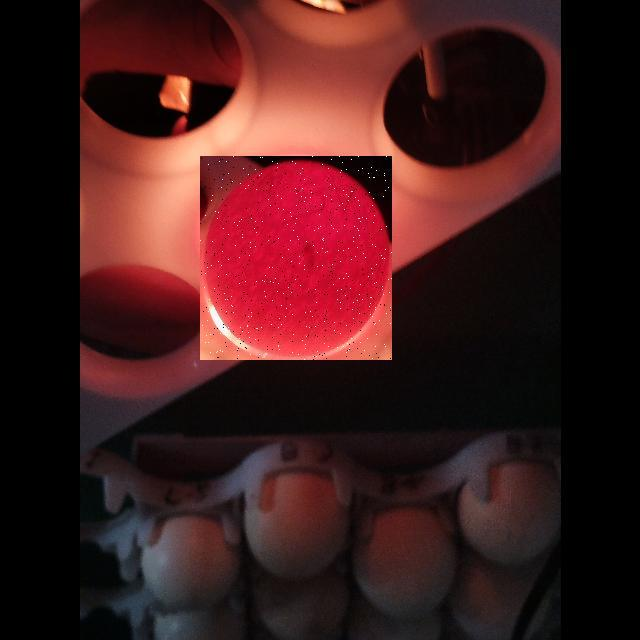Infertile: (200, 156, 392, 360)
